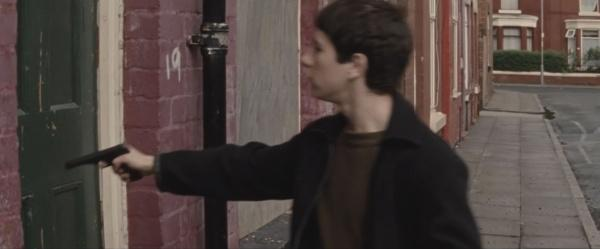Gun: (67, 143, 142, 184)
